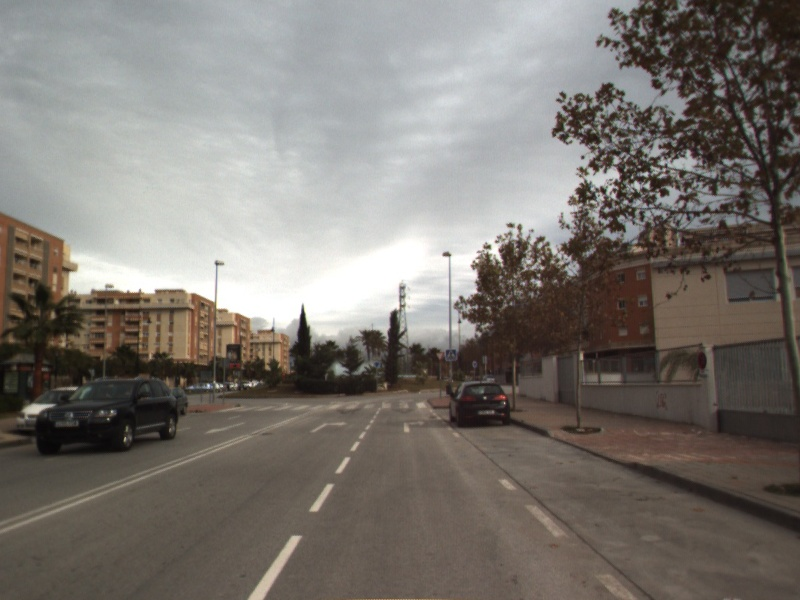RIGHT: (308, 419, 350, 434), (401, 418, 427, 434)
